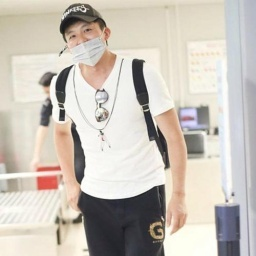incorrectlyWear: (59, 24, 111, 67)
